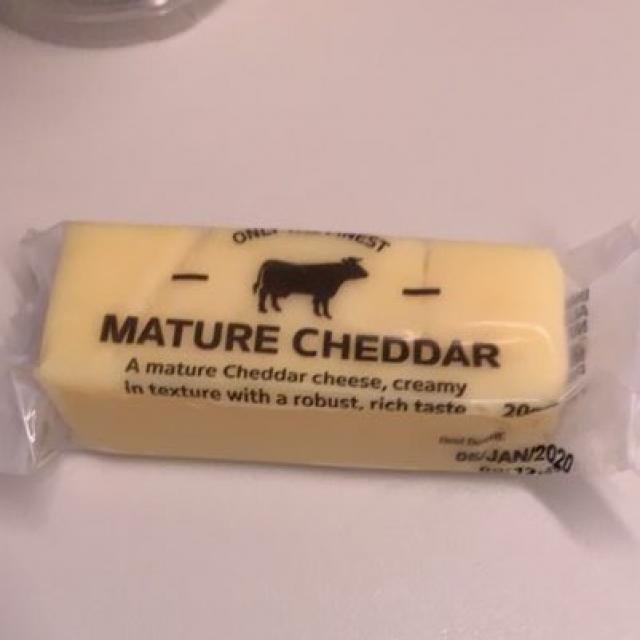cheddar: (39, 224, 579, 478)
